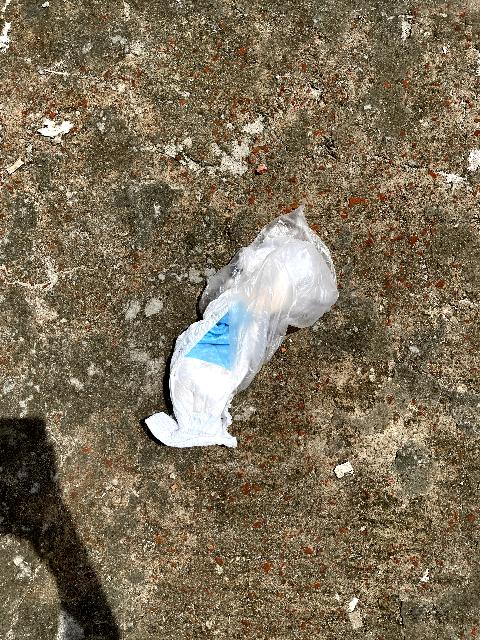polythene: (143, 190, 363, 444)
